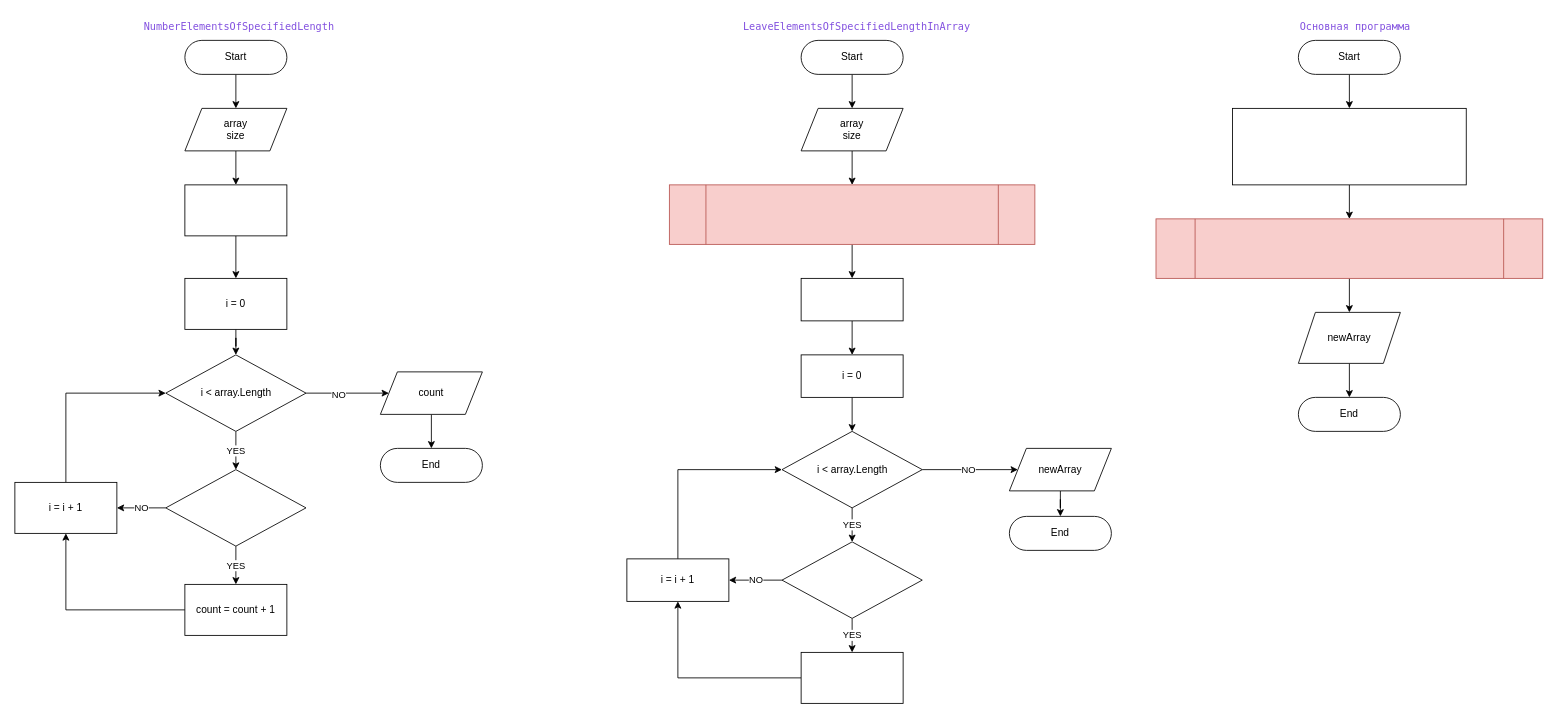
This 1558x718 diagram has some shape labels left out. The shapes that lost their labels are listed below. From the top down, each one's centre as x and y in pixels, then its label:
[1349,146]: array = [собака, кот, мышь, бык, сова, як, енот, сыч, орангутан, Питер Петтигрю]
[235,210]: count = 0
[852,214]: newArray = new string [NumberElementsOfSpecifiedLength ( array , size ) ]
[1349,248]: newArray = LeaveElementsOfSpecifiedLengthInArray ( array , 3 )
[851,299]: j = 0
[235,507]: array[i].Length < = size
[851,579]: array[i].Length <= size
[851,677]: newArray[j] = array[i] j = j + 1
